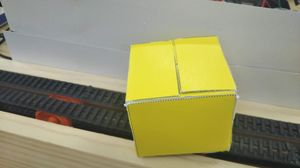box4: (125, 34, 238, 158)
